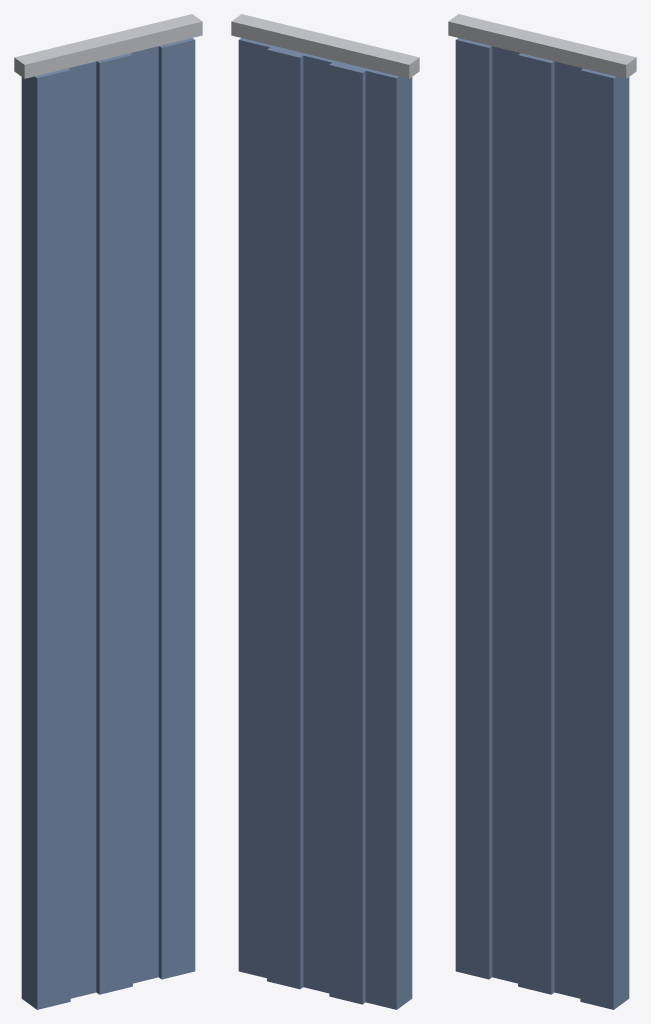
Rendered from curtain.glb.
The picture shows the model from 3 angles, left to right: view 1: azimuth 30°, elevation 25°; view 2: azimuth 150°, elevation 25°; view 3: azimuth 330°, elevation 25°; orthographic projection.
Parts seen in each view (by area): view 1: curtain; view 2: curtain; view 3: curtain.
Boxes of the visible parts, x1,y1,x2,y2 form: curtain: [14, 14, 202, 1009]; curtain: [231, 14, 419, 1009]; curtain: [448, 14, 636, 1009].
Bounding box in the file's own units: 0.4 × 2.03 × 0.072.
